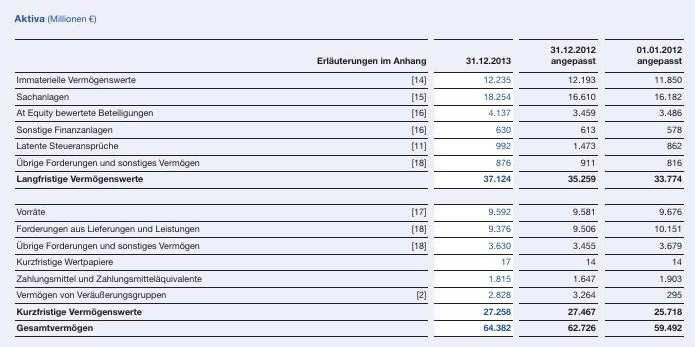table: (0, 0, 695, 347)
